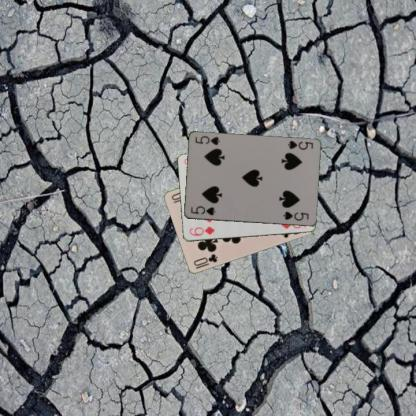10c: (191, 251, 219, 268)
5s: (285, 138, 314, 151), (188, 204, 216, 217)
6d: (186, 223, 216, 237)
